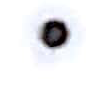cancer: (22, 4, 89, 69)
